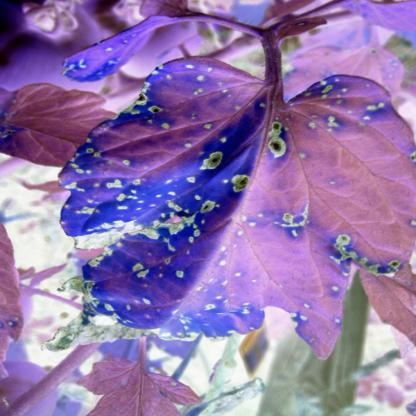Tomato Septoria leaf spot: (60, 56, 415, 353)
